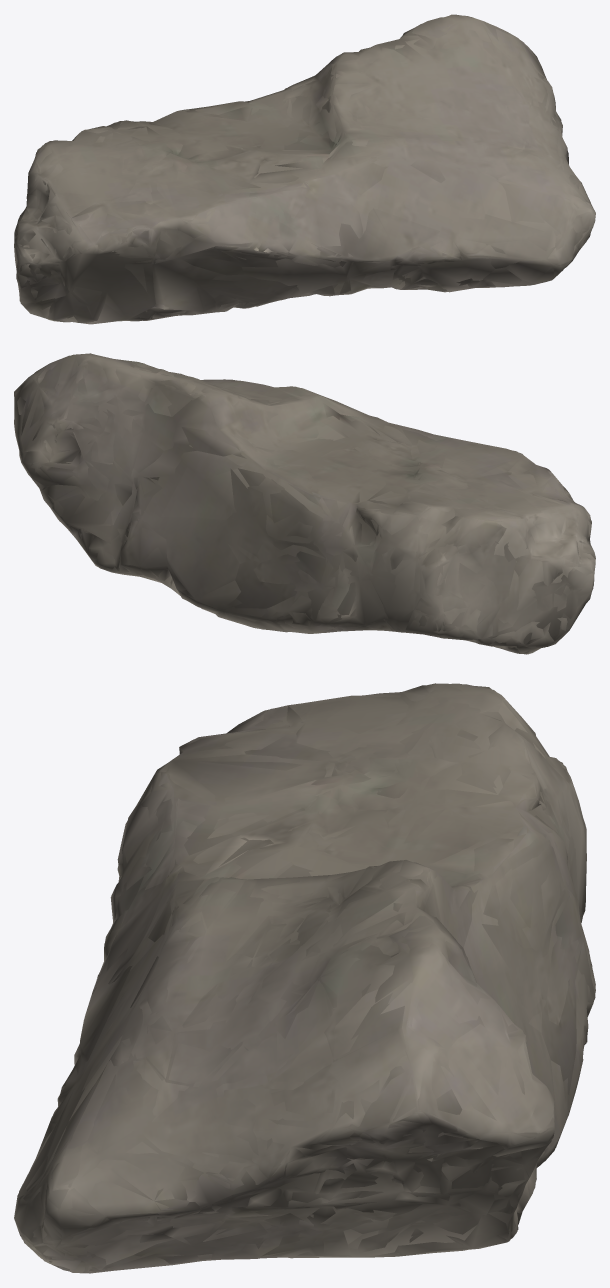
File: moon_rock_1.glb
The picture shows the model from 3 angles, top to bottom: view 1: azimuth 30°, elevation 25°; view 2: azimuth 150°, elevation 25°; view 3: azimuth 270°, elevation 25°; orthographic projection. The views are drawn at different scales.
Parts seen in each view (by area): view 1: moon_rock_01_LOD0; view 2: moon_rock_01_LOD0; view 3: moon_rock_01_LOD0.
Part boxes in pixels (x1,y1,x2,y2): moon_rock_01_LOD0: [14, 14, 595, 324]; moon_rock_01_LOD0: [14, 353, 595, 654]; moon_rock_01_LOD0: [14, 683, 595, 1273].
Bounding box in the file's own units: 0.2123 × 0.0753 × 0.1117.
Materials: 1 (1 with a texture image).
